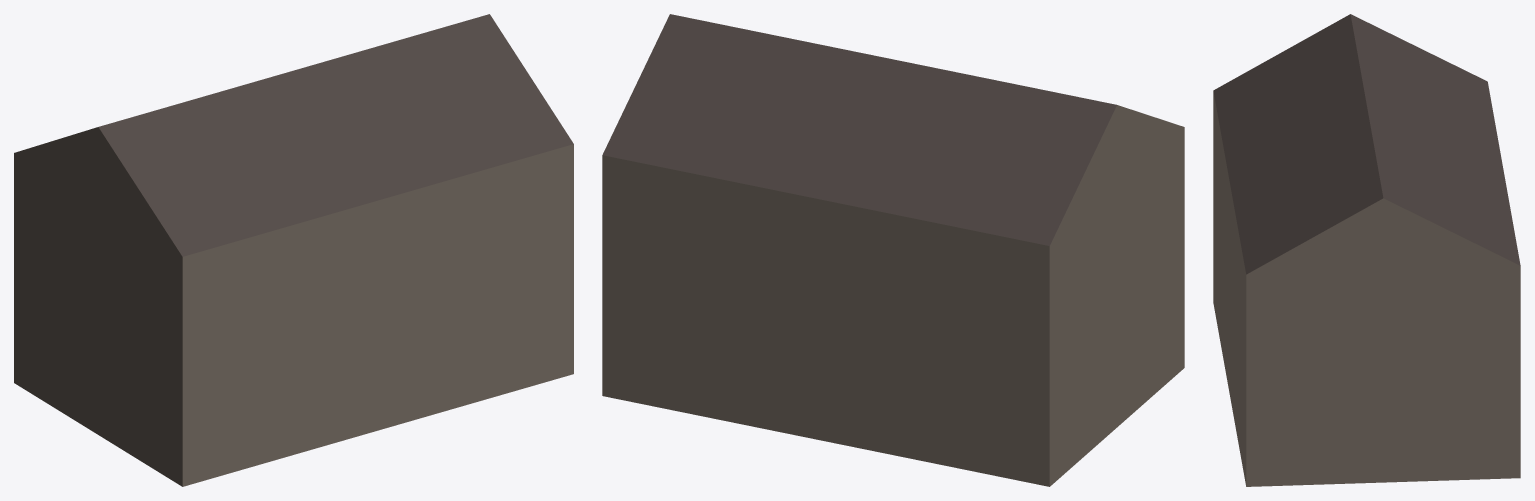
The picture shows the model from 3 angles, left to right: view 1: azimuth 30°, elevation 25°; view 2: azimuth 150°, elevation 25°; view 3: azimuth 270°, elevation 25°; orthographic projection. The views are drawn at different scales.
Parts seen in each view (by area): view 1: HP-w1197839036; view 2: HP-w1197839036; view 3: HP-w1197839036.
Part boxes in pixels (box(x1,y1,x2,y2)): HP-w1197839036: box(14, 14, 573, 486); HP-w1197839036: box(602, 14, 1184, 486); HP-w1197839036: box(1213, 14, 1520, 486).
Size of the model in its own units: 11.71 by 8.04 by 7.87.
